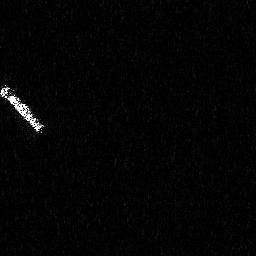ship: (1, 82, 47, 133)
